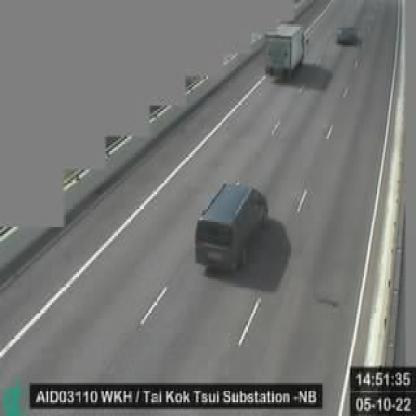Car: (195, 180, 267, 269), (336, 24, 358, 44)
Truck: (264, 21, 307, 80)
